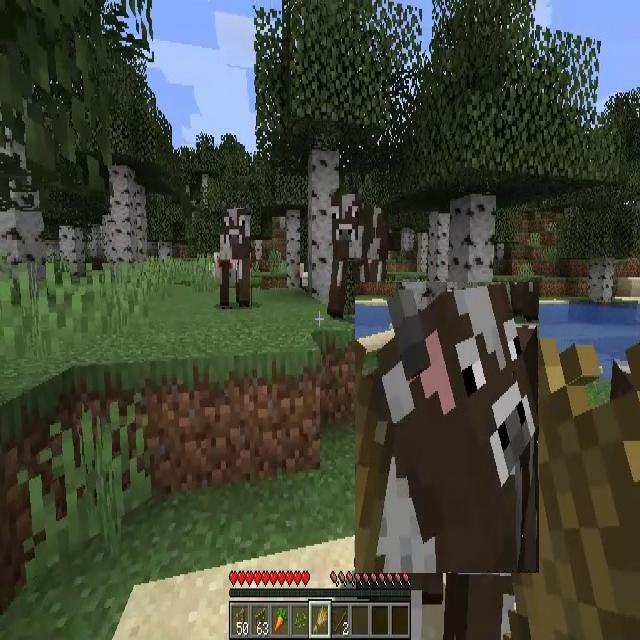cow: (355, 282, 539, 573), (329, 195, 383, 316), (220, 209, 251, 307)
